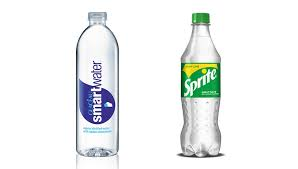HDPE Cap: (88, 12, 106, 22), (192, 13, 210, 23)
PET Bottle: (75, 12, 120, 158), (180, 12, 221, 158)
PVC Label: (181, 63, 221, 98)
